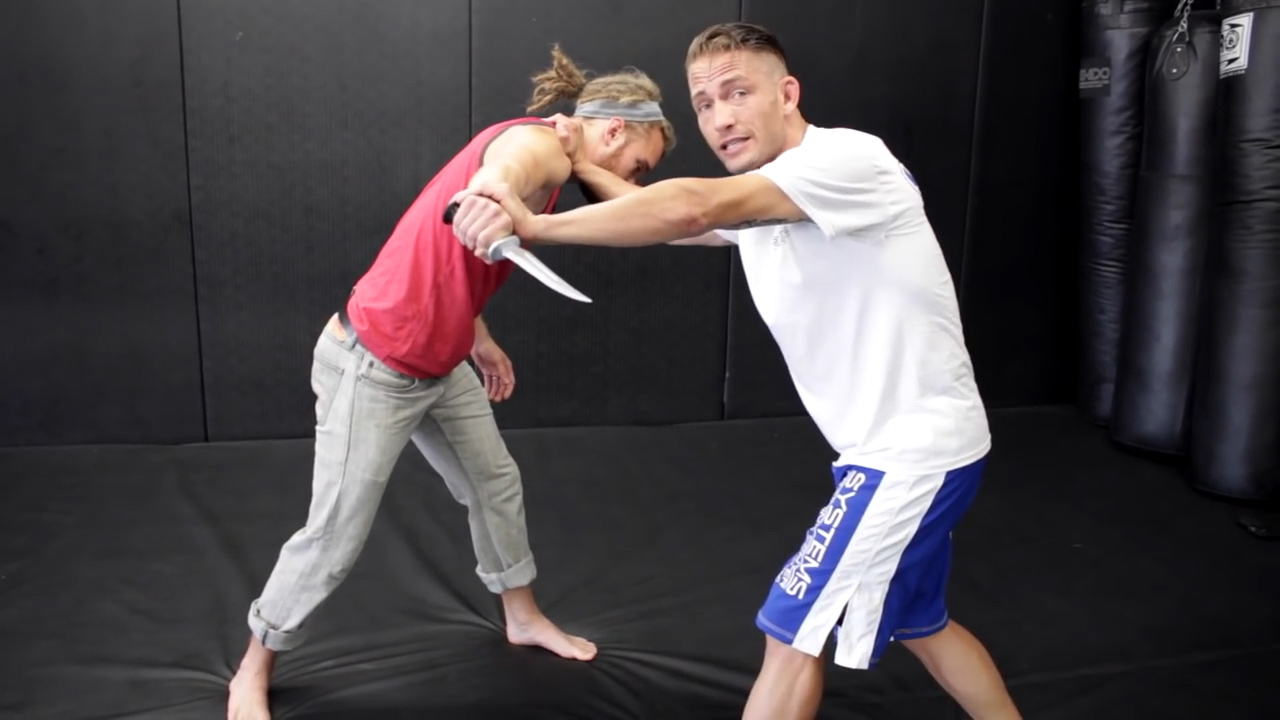knife: (437, 200, 599, 314)
